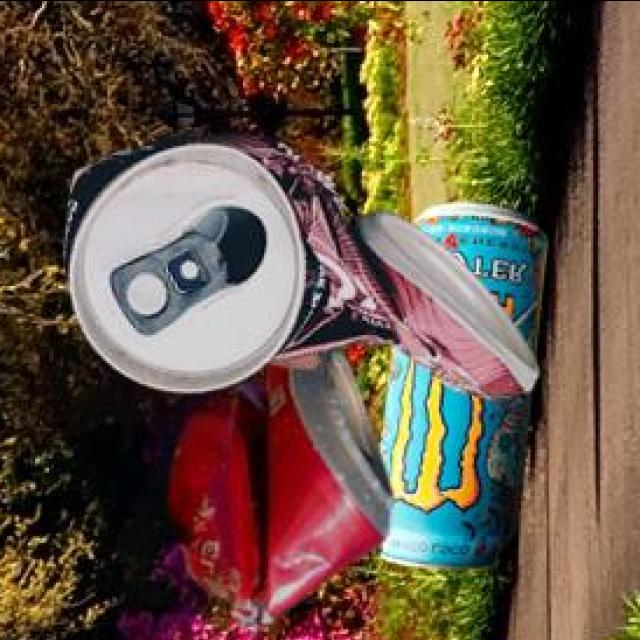logam: (62, 130, 536, 394), (165, 342, 389, 627), (377, 197, 543, 564)
